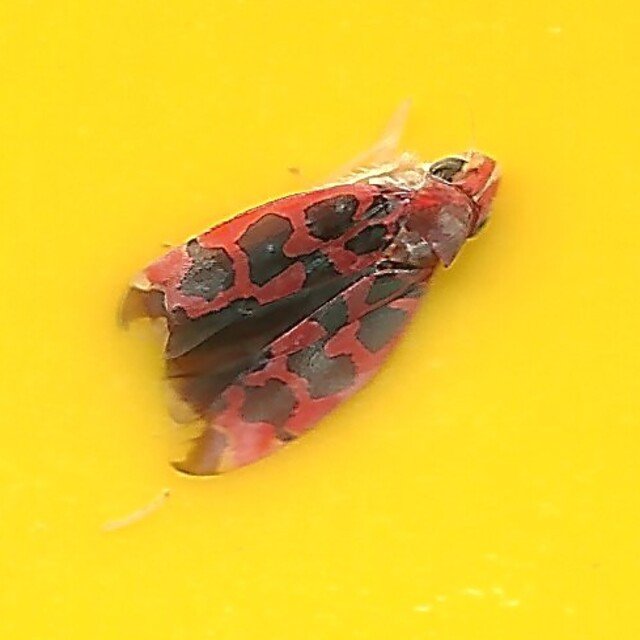Hemiptera: (131, 133, 509, 507)
